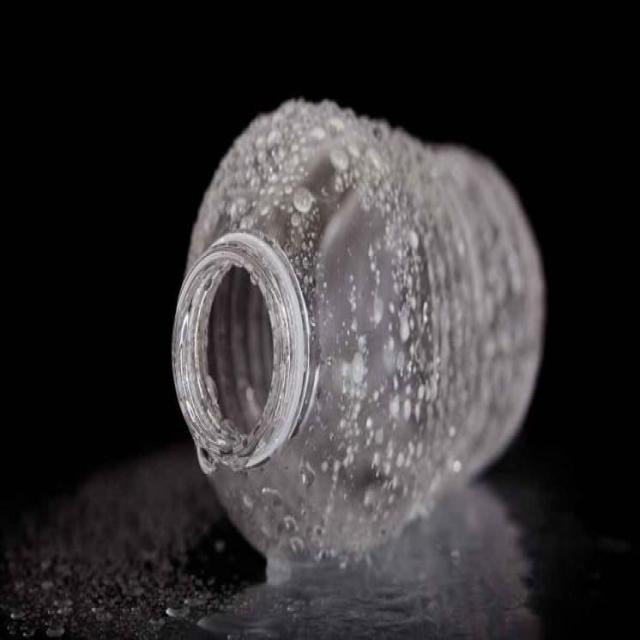bottle: (170, 78, 552, 588)
